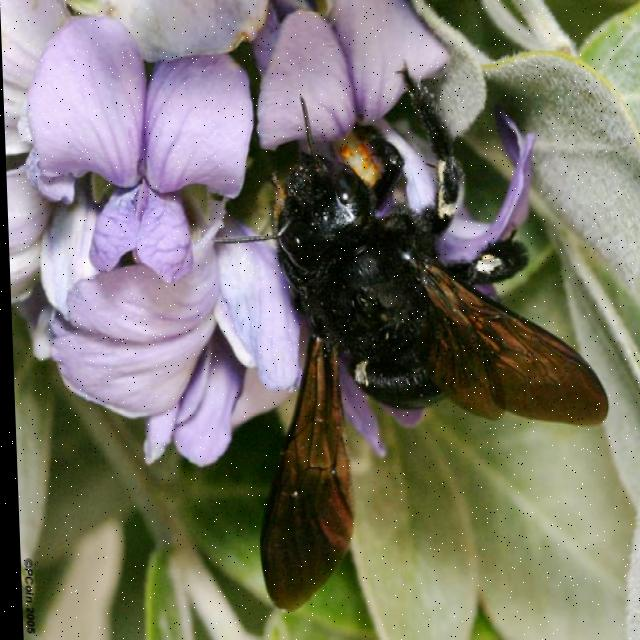Xylocopa: (198, 47, 622, 612)
